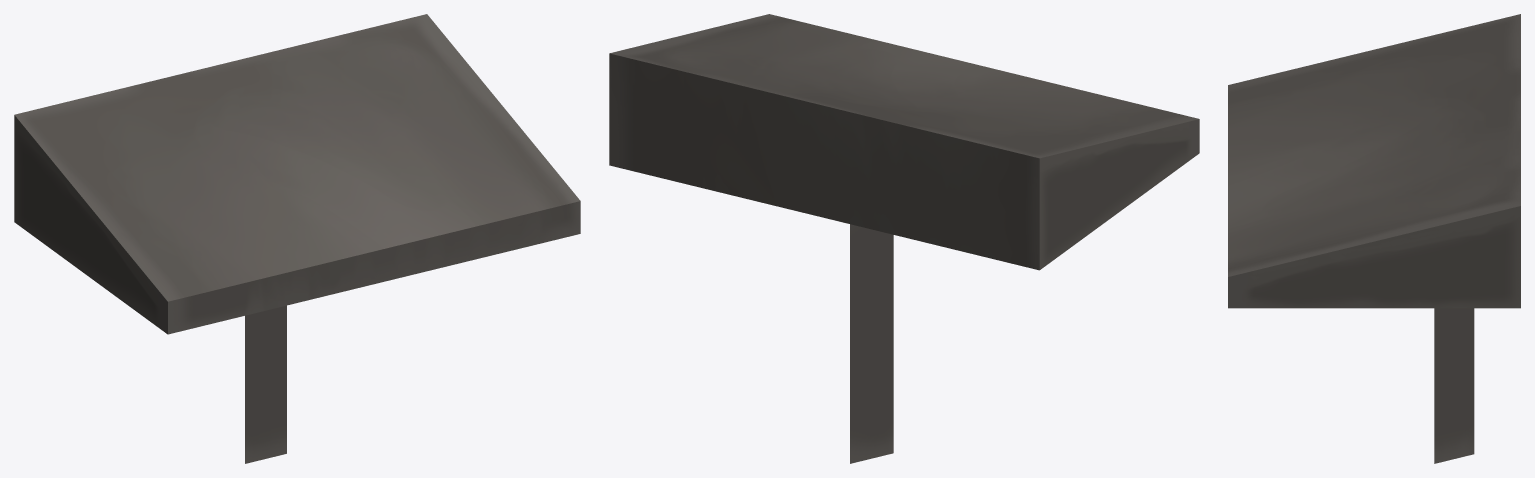
The model's file is panel.obj.
The picture shows the model from 3 angles, left to right: view 1: azimuth 30°, elevation 25°; view 2: azimuth 150°, elevation 25°; view 3: azimuth 270°, elevation 25°; orthographic projection. The views are drawn at different scales.
Visible parts, largest first — view 1: Cube; view 2: Cube; view 3: Cube.
Boxes of the visible parts, left/top/right/bottom form: Cube: left=14, top=14, right=580, bottom=463; Cube: left=609, top=14, right=1199, bottom=463; Cube: left=1228, top=14, right=1520, bottom=463.
Bounding box in the file's own units: 2 × 1.67 × 1.29.
Materials: 1 (1 with a texture image).
